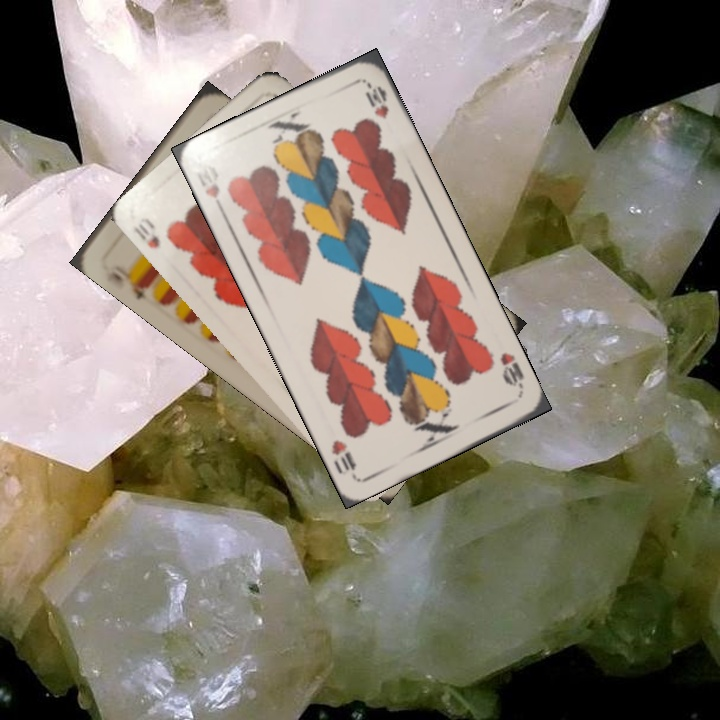E10: (98, 258, 153, 303)
H10: (496, 348, 527, 395), (129, 213, 163, 251), (200, 179, 228, 217)
